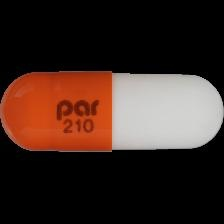42291-546: (0, 0, 224, 224)
